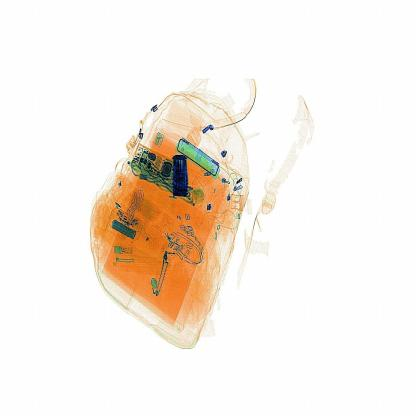scissors: (162, 142, 200, 208)
